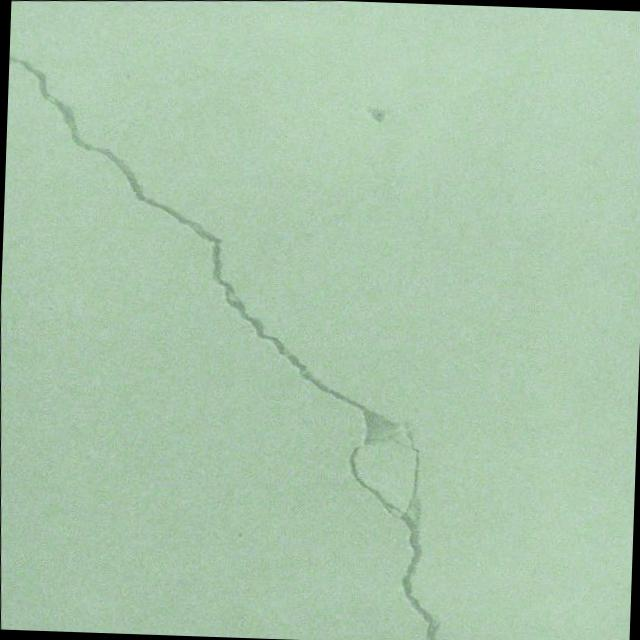crack: (0, 31, 461, 640)
